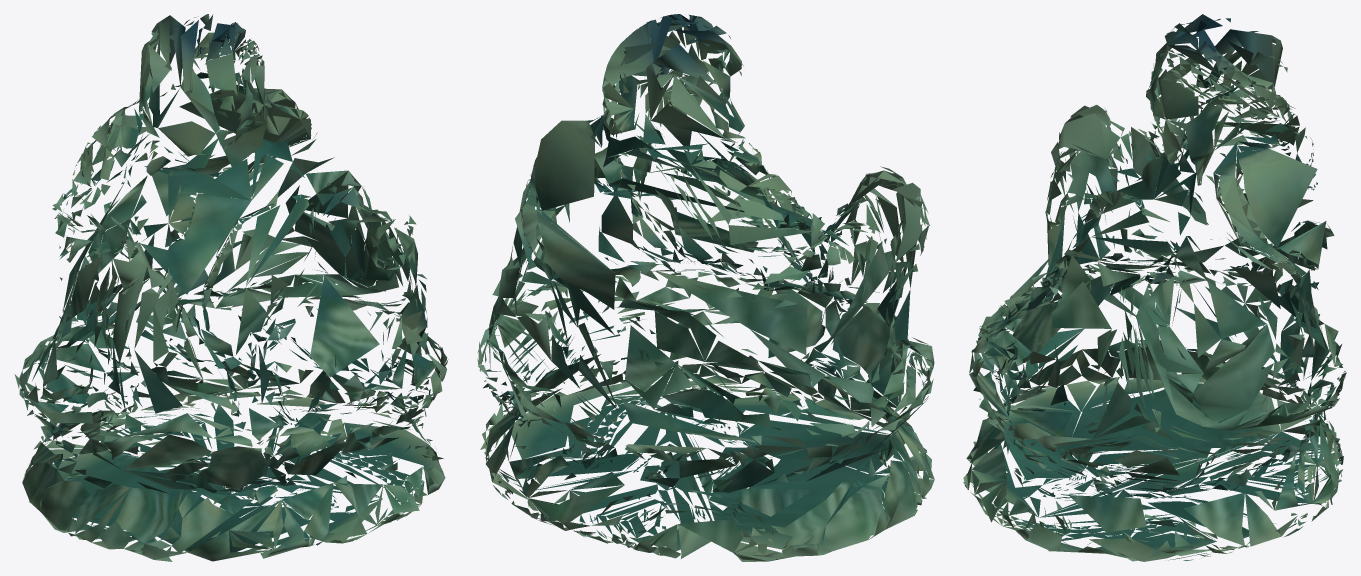
File: far.glb
3 views of the same model, side by side, from view 1: azimuth 30°, elevation 25°; view 2: azimuth 150°, elevation 25°; view 3: azimuth 270°, elevation 25° (orthographic). The views are drawn at different scales.
Visible parts, largest first — view 1: statue-056; view 2: statue-056; view 3: statue-056.
Part boxes in pixels (box(x1,y1,x2,y2)): statue-056: box(14, 14, 448, 561); statue-056: box(477, 14, 934, 561); statue-056: box(963, 14, 1346, 561).
Size of the model in its own units: 0.9115 by 0.9998 by 0.7768.
1 material, 1 textured.
